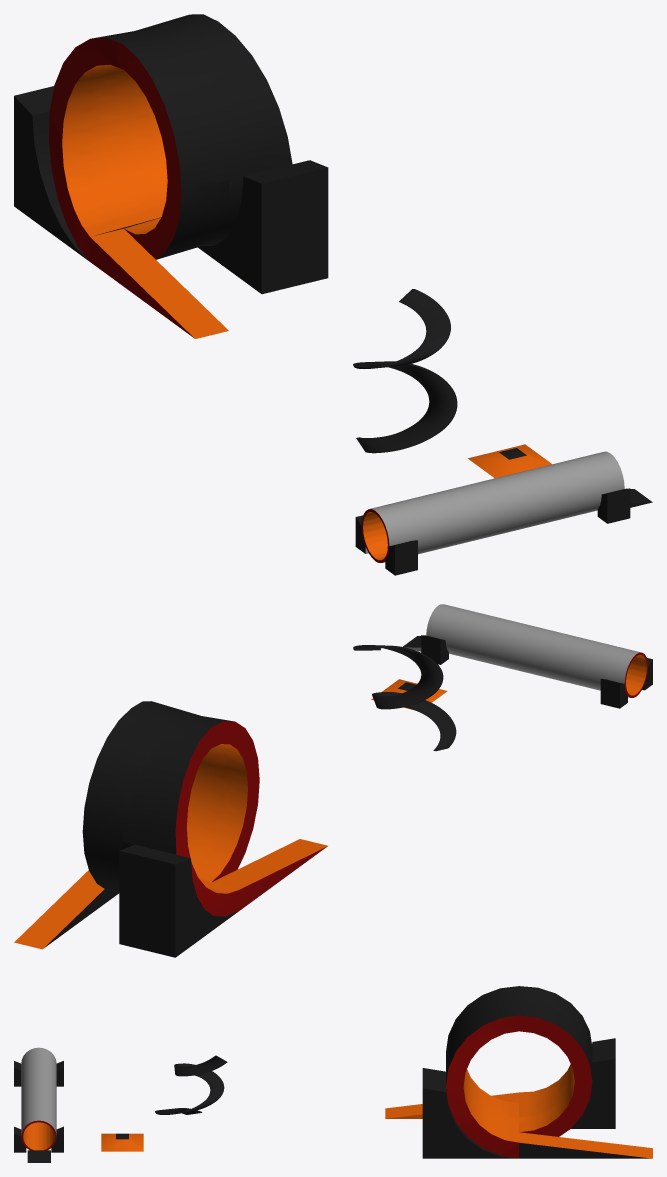
The model's file is StuntRamps.FBX.
3 renders of one model, top to bottom at view 1: azimuth 30°, elevation 25°; view 2: azimuth 150°, elevation 25°; view 3: azimuth 270°, elevation 25°, orthographic. The views are drawn at different scales.
Visible parts, largest first — view 1: Stunt_1, Stunt_4, Stunt_3, Stunt_2; view 2: Stunt_1, Stunt_4, Stunt_3; view 3: Stunt_1, Stunt_4, Stunt_3, Stunt_2.
Boxes of the visible parts, <box> form: Stunt_1: <box>14,14,328,338</box>; Stunt_4: <box>355,451,652,575</box>; Stunt_3: <box>353,289,457,453</box>; Stunt_2: <box>468,444,551,478</box>; Stunt_1: <box>14,701,327,957</box>; Stunt_4: <box>403,604,652,708</box>; Stunt_3: <box>353,645,456,751</box>; Stunt_1: <box>385,986,652,1158</box>; Stunt_4: <box>14,1047,63,1162</box>; Stunt_3: <box>155,1055,227,1114</box>; Stunt_2: <box>101,1133,143,1151</box>.
Bounding box in the file's own units: 7.32 × 5.5 × 23.74.
